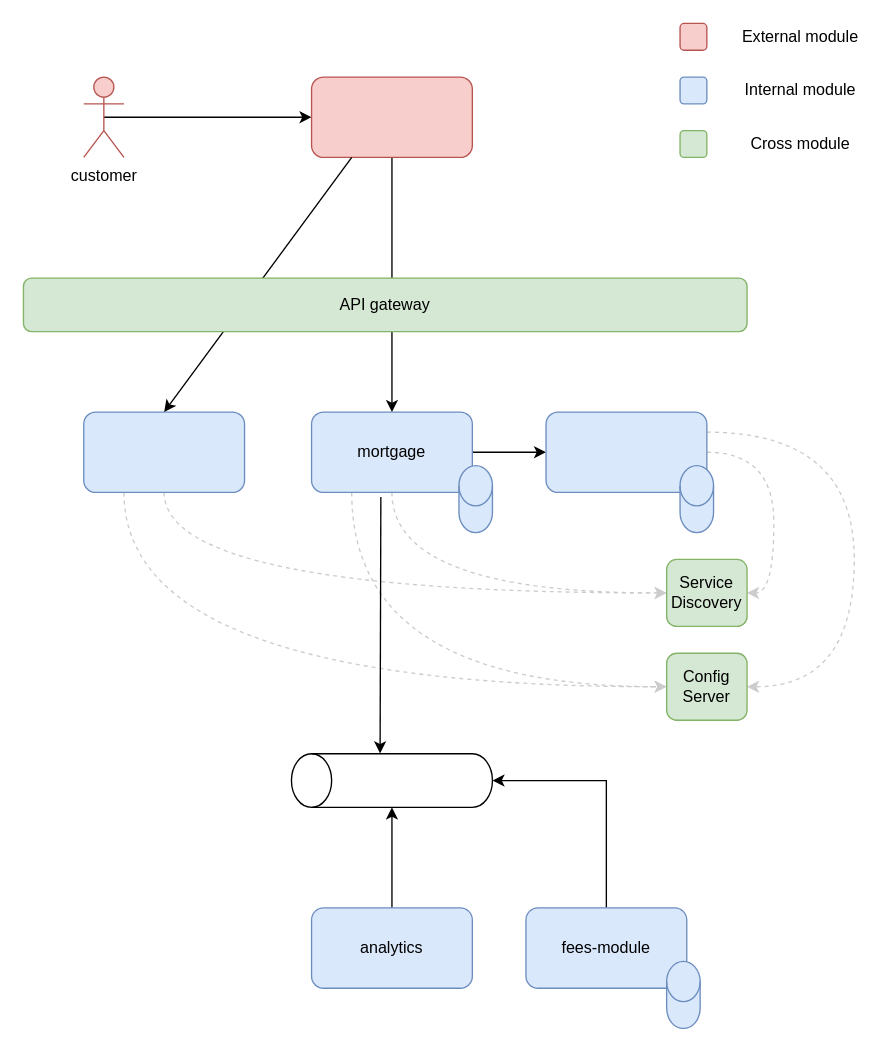
This 891x1052 diagram has some shape labels left out. The shapes that lost their labels are listed below. From the top down, each one's centre as x and y in pixels, then its label:
At (391,116): "3rd party".
At (163,451): "company-mgm".
At (626,451): "legal-system".
